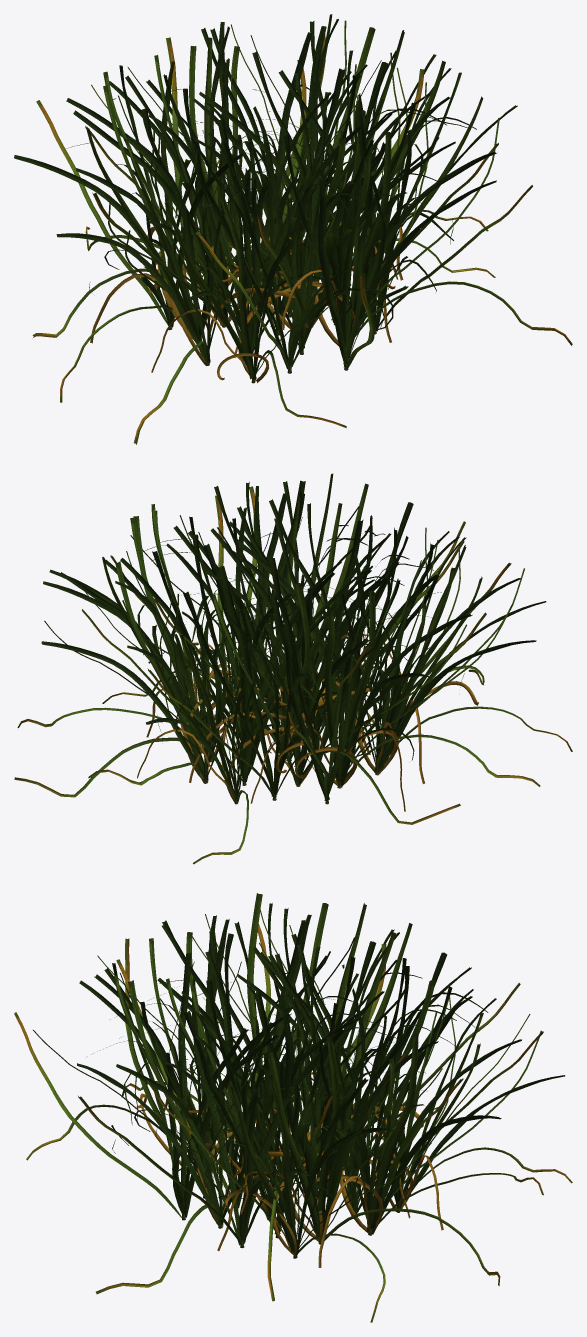
The model's file is Cocksfoot_Clump_01.fbx.
3 renders of one model, top to bottom at view 1: azimuth 30°, elevation 25°; view 2: azimuth 150°, elevation 25°; view 3: azimuth 270°, elevation 25°, orthographic. The views are drawn at different scales.
Visible parts, largest first — view 1: Cocksfoot_Clump_01; view 2: Cocksfoot_Clump_01; view 3: Cocksfoot_Clump_01.
Boxes of the visible parts, x1,y1,x2,y2 form: Cocksfoot_Clump_01: (14,14,572,444); Cocksfoot_Clump_01: (14,473,572,864); Cocksfoot_Clump_01: (14,893,572,1322).
Bounding box in the file's own units: 100 × 50.28 × 99.17.
Materials: 6 (6 with a texture image).
